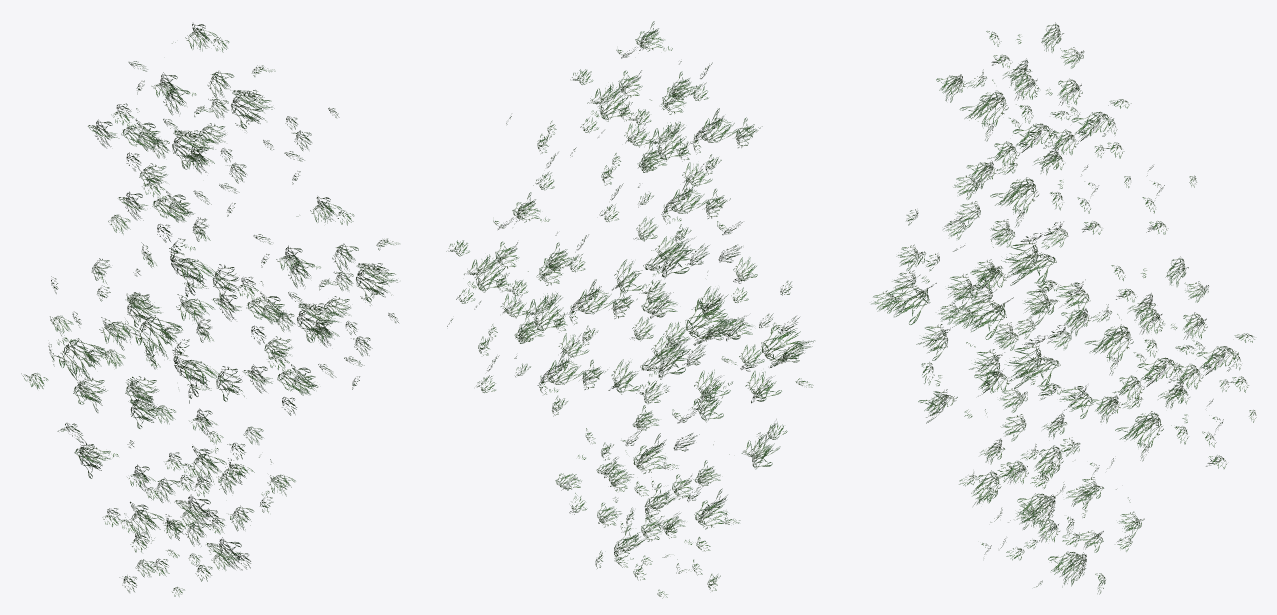
The model's file is tdr_v_watergrass_a.obj.
3 views of the same model, side by side, from view 1: azimuth 30°, elevation 25°; view 2: azimuth 150°, elevation 25°; view 3: azimuth 330°, elevation 25° (orthographic).
Visible parts, largest first — view 1: tdr_v_watergrass_c; view 2: tdr_v_watergrass_c; view 3: tdr_v_watergrass_c.
Boxes of the visible parts, bbox=[...] form: tdr_v_watergrass_c: bbox=[21, 23, 399, 596]; tdr_v_watergrass_c: bbox=[446, 21, 814, 598]; tdr_v_watergrass_c: bbox=[871, 22, 1256, 594].
Size of the model in its own units: 2348 by 3371 by 361.
1 material, 1 textured.
